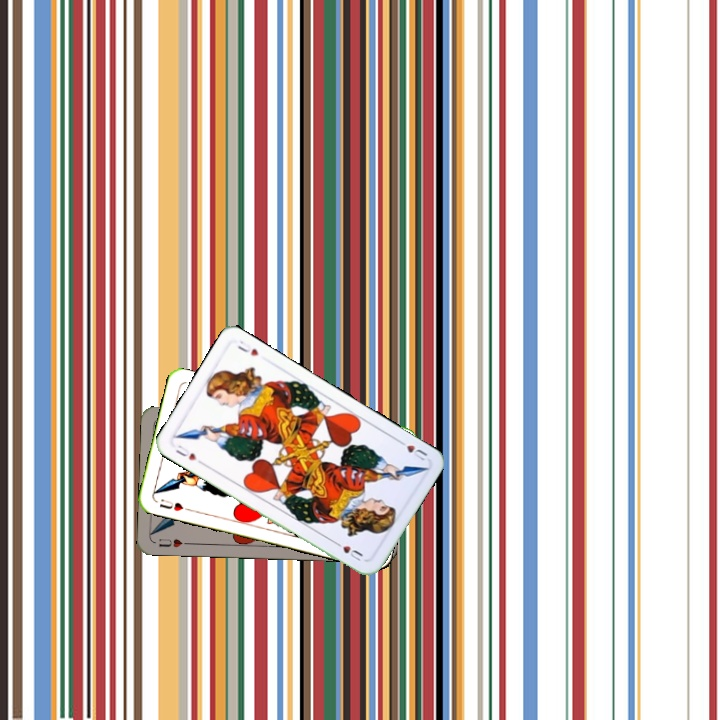HU: (394, 435, 431, 463), (171, 441, 206, 467), (155, 495, 186, 514), (155, 535, 192, 550)
